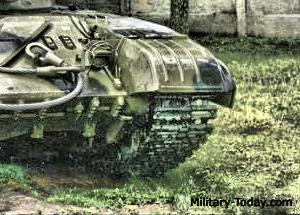tanks: (1, 1, 237, 176)
